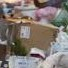garbage: (1, 1, 67, 68)
